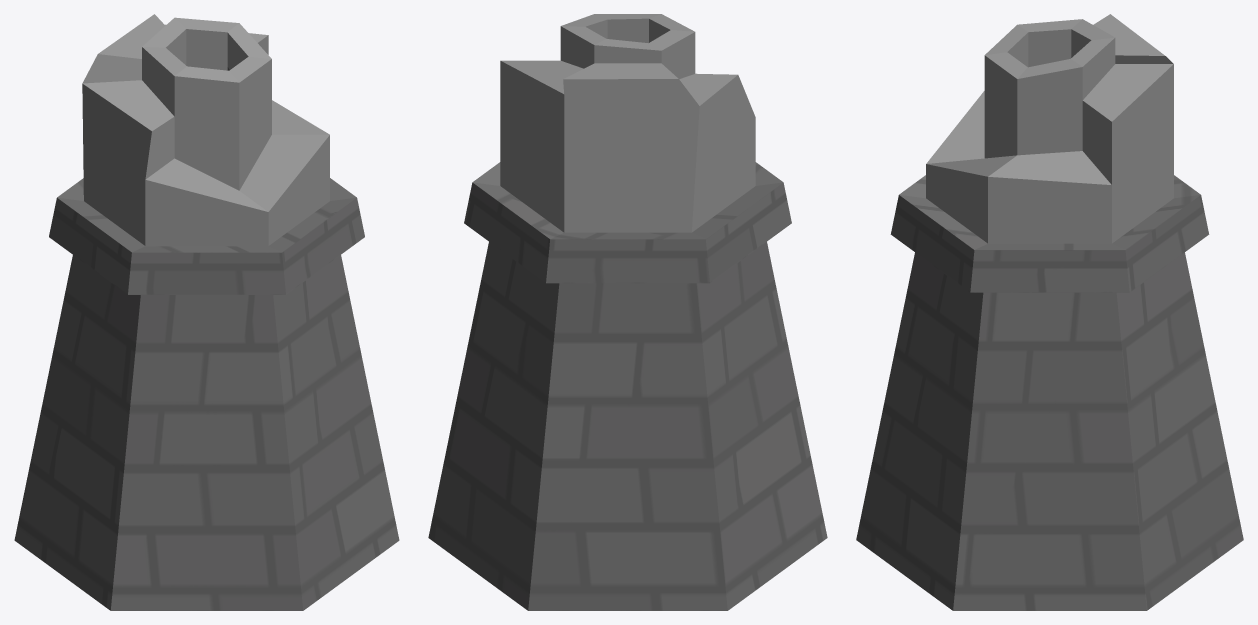
File: mimic_tower.glb
The picture shows the model from 3 angles, left to right: view 1: azimuth 30°, elevation 25°; view 2: azimuth 150°, elevation 25°; view 3: azimuth 270°, elevation 25°; orthographic projection. The views are drawn at different scales.
Parts seen in each view (by area): view 1: Cylinder.002; view 2: Cylinder.002; view 3: Cylinder.002.
Part boxes in pixels (x1=…): Cylinder.002: x1=14, y1=14, x2=399, y2=610; Cylinder.002: x1=428, y1=14, x2=827, y2=610; Cylinder.002: x1=856, y1=14, x2=1243, y2=610.
Size of the model in its own units: 1.33 by 2.19 by 1.53.
2 materials, 1 textured.
